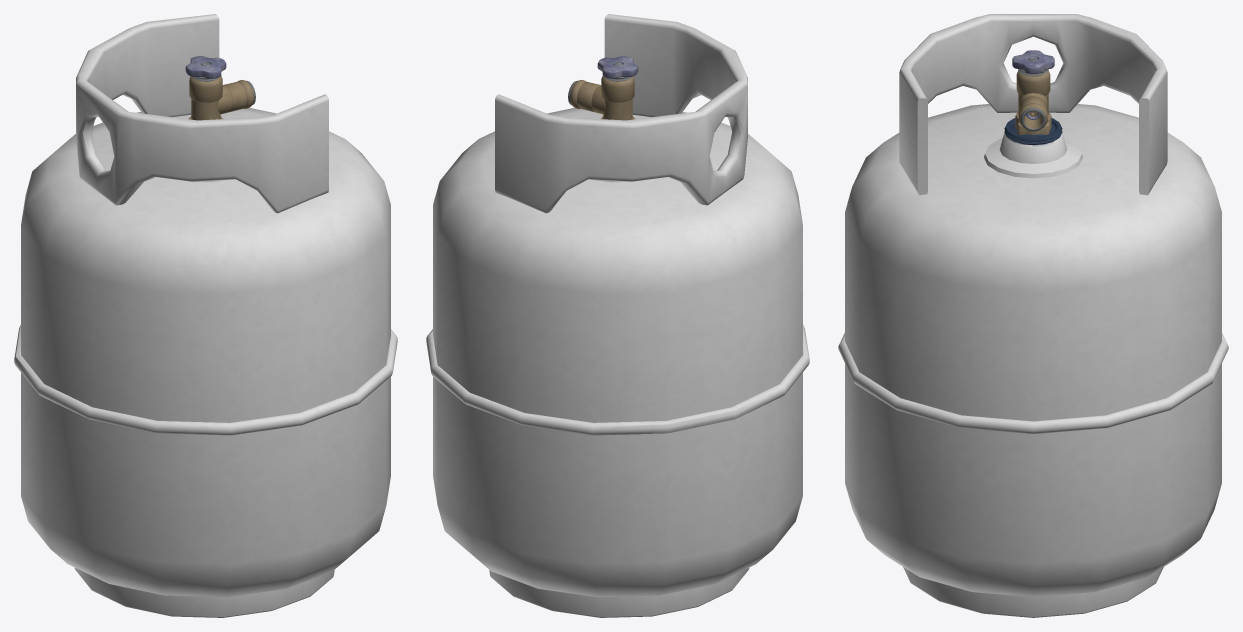
The model's file is propane_small.glb.
The picture shows the model from 3 angles, left to right: view 1: azimuth 30°, elevation 25°; view 2: azimuth 150°, elevation 25°; view 3: azimuth 270°, elevation 25°; orthographic projection.
Visible parts, largest first — view 1: Cylinder.001_Cylinder.004; view 2: Cylinder.001_Cylinder.004; view 3: Cylinder.001_Cylinder.004.
Boxes of the visible parts, x1,y1,x2,y2 form: Cylinder.001_Cylinder.004: (14,14,397,617); Cylinder.001_Cylinder.004: (426,14,809,617); Cylinder.001_Cylinder.004: (838,14,1228,617).
Bounding box in the file's own units: 0.3509 × 0.5 × 0.3509.
1 material, 1 textured.
